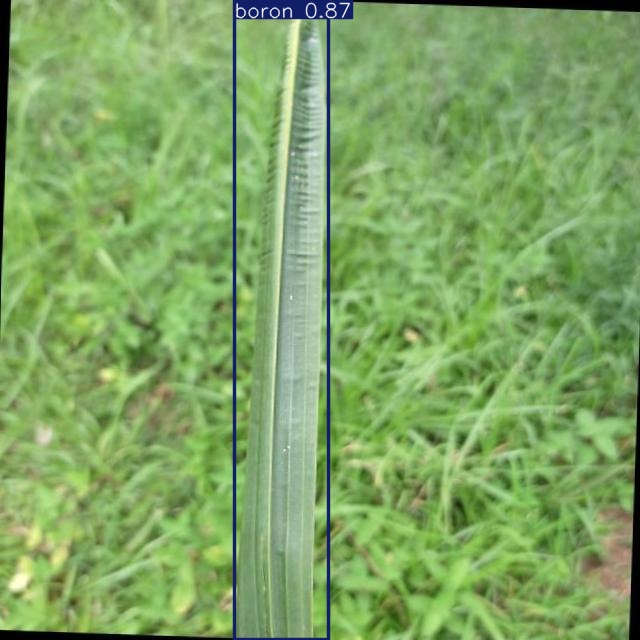nitrogen: (235, 0, 329, 640)
